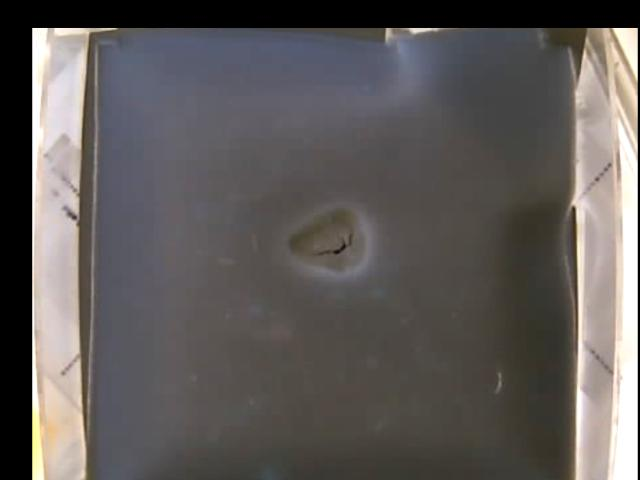Pebble: (290, 205, 367, 275)
